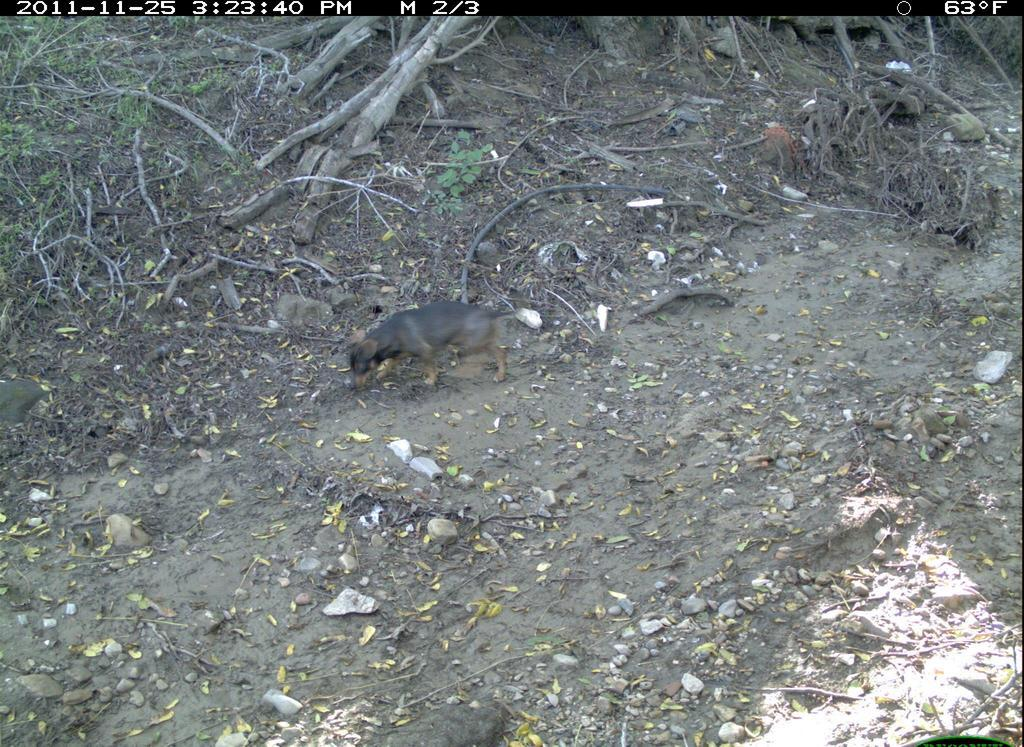dog: (332, 290, 546, 417)
